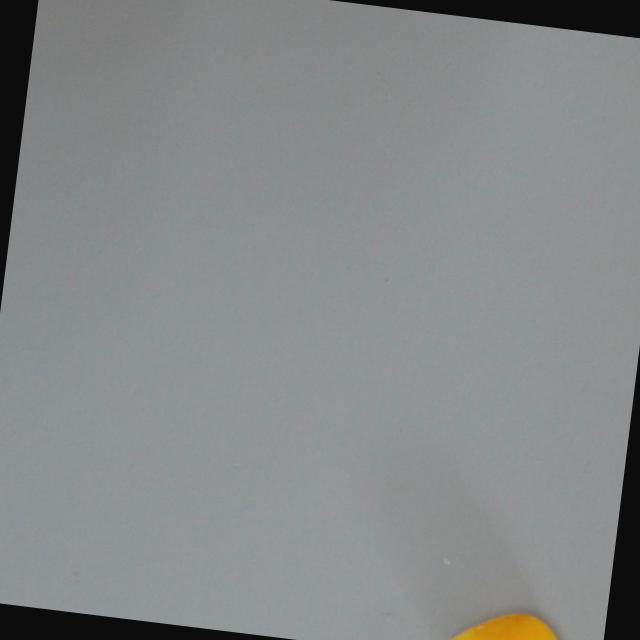no_canjicado: (454, 607, 574, 640)
